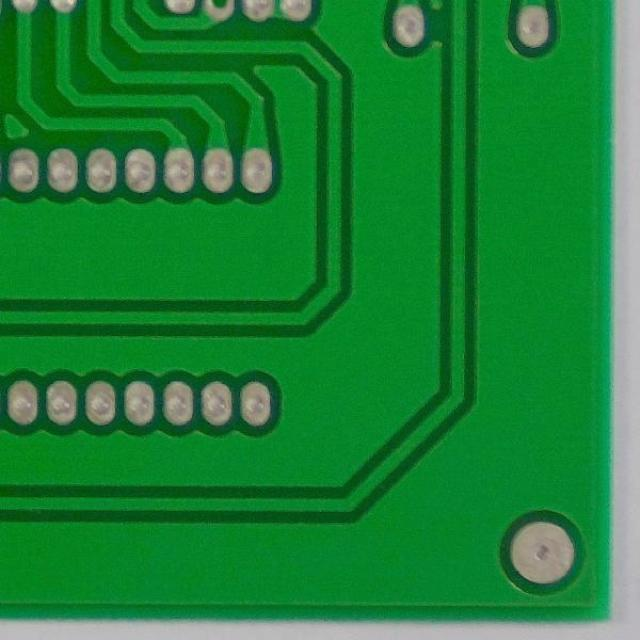Missing_Hole: (198, 0, 237, 23)
